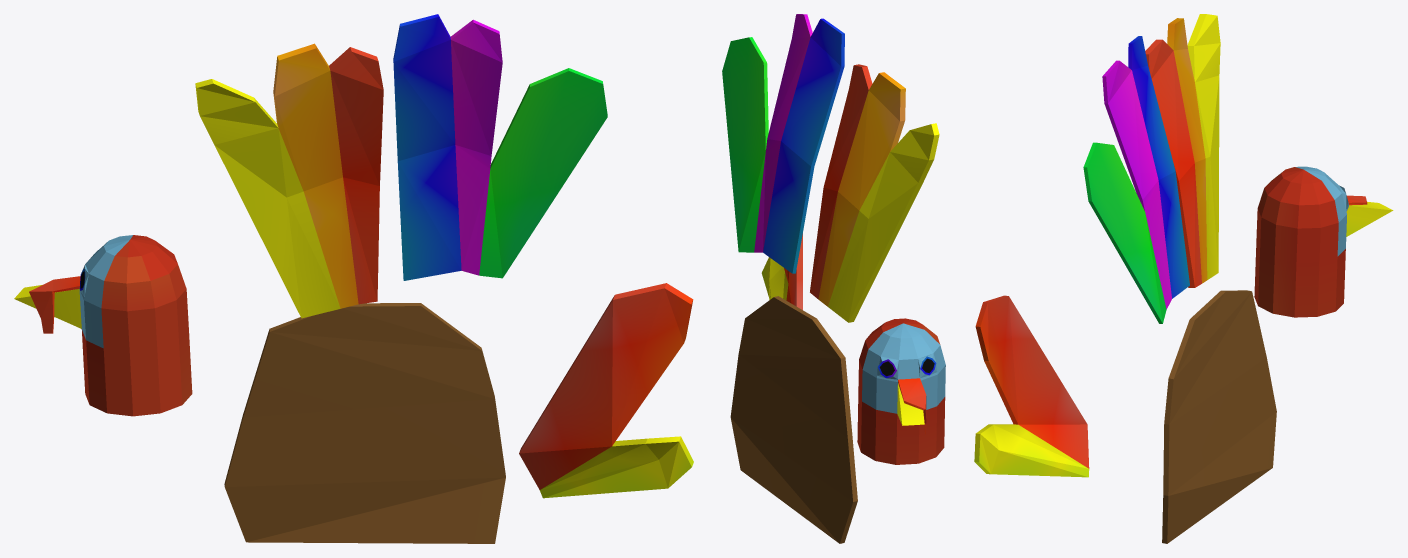
Rendered from TURKEY FINGER PUPPET.fbx.
The picture shows the model from 3 angles, left to right: view 1: azimuth 30°, elevation 25°; view 2: azimuth 150°, elevation 25°; view 3: azimuth 270°, elevation 25°; orthographic projection. The views are drawn at different scales.
Visible parts, largest first — view 1: TURKEY_FINGER_PUPPET; view 2: TURKEY_FINGER_PUPPET; view 3: TURKEY_FINGER_PUPPET.
Boxes of the visible parts, x1,y1,x2,y2 form: TURKEY_FINGER_PUPPET: [14, 14, 693, 543]; TURKEY_FINGER_PUPPET: [722, 14, 945, 543]; TURKEY_FINGER_PUPPET: [974, 14, 1393, 543].
Bounding box in the file's own units: 17.33 × 21.09 × 17.1.
